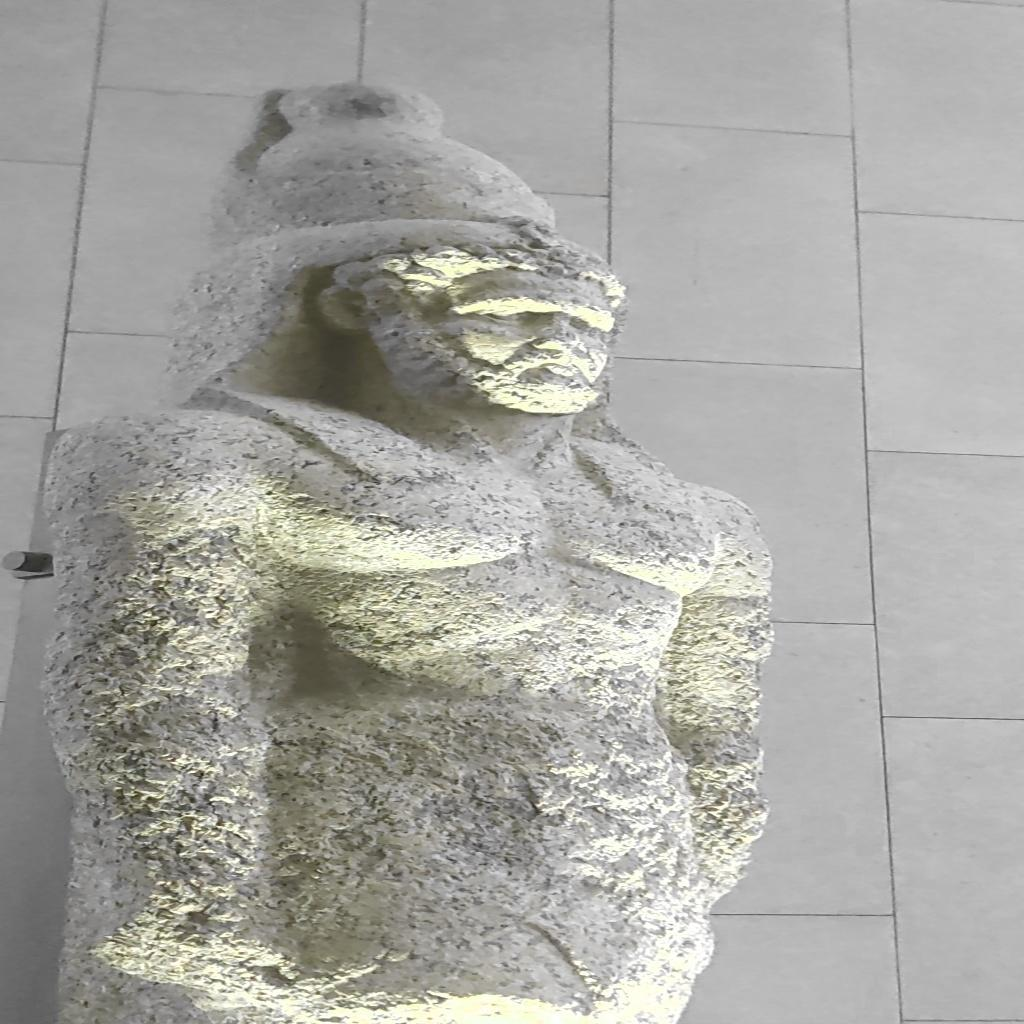Statue of Carcala: (28, 79, 778, 1021)
